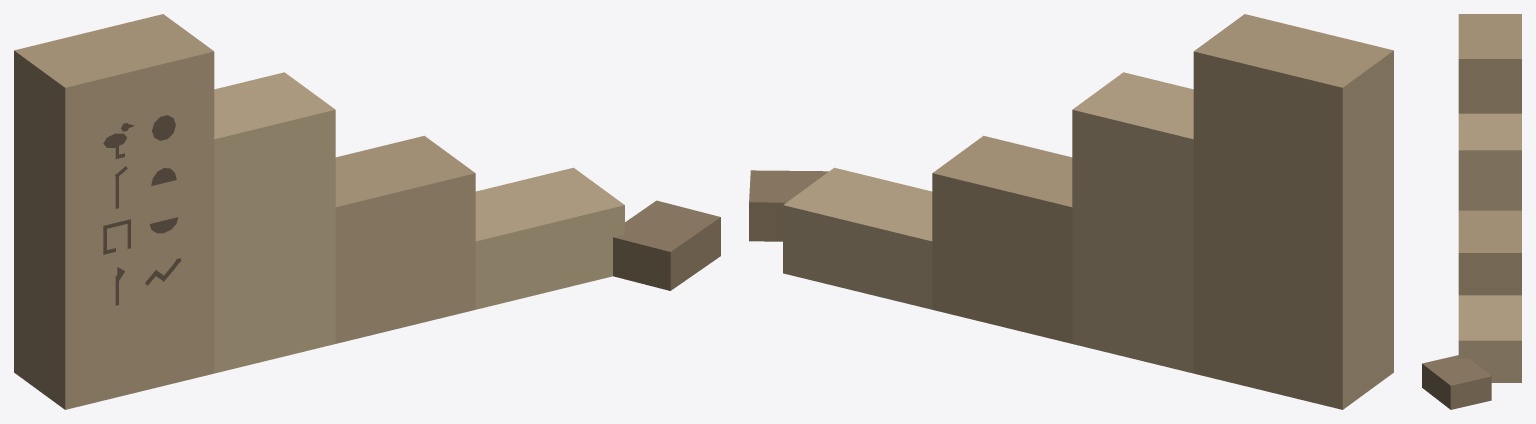
Rendered from wall_ruin.glb.
3 views of the same model, side by side, from view 1: azimuth 30°, elevation 25°; view 2: azimuth 150°, elevation 25°; view 3: azimuth 270°, elevation 25° (orthographic). The views are drawn at different scales.
Parts seen in each view (by area): view 1: wall_ruin; view 2: wall_ruin; view 3: wall_ruin.
Part boxes in pixels (x1,y1,x2,y2): wall_ruin: [14, 14, 720, 409]; wall_ruin: [749, 14, 1393, 409]; wall_ruin: [1422, 14, 1521, 409].
Size of the model in its own units: 6.96 by 3.3 by 1.5.
